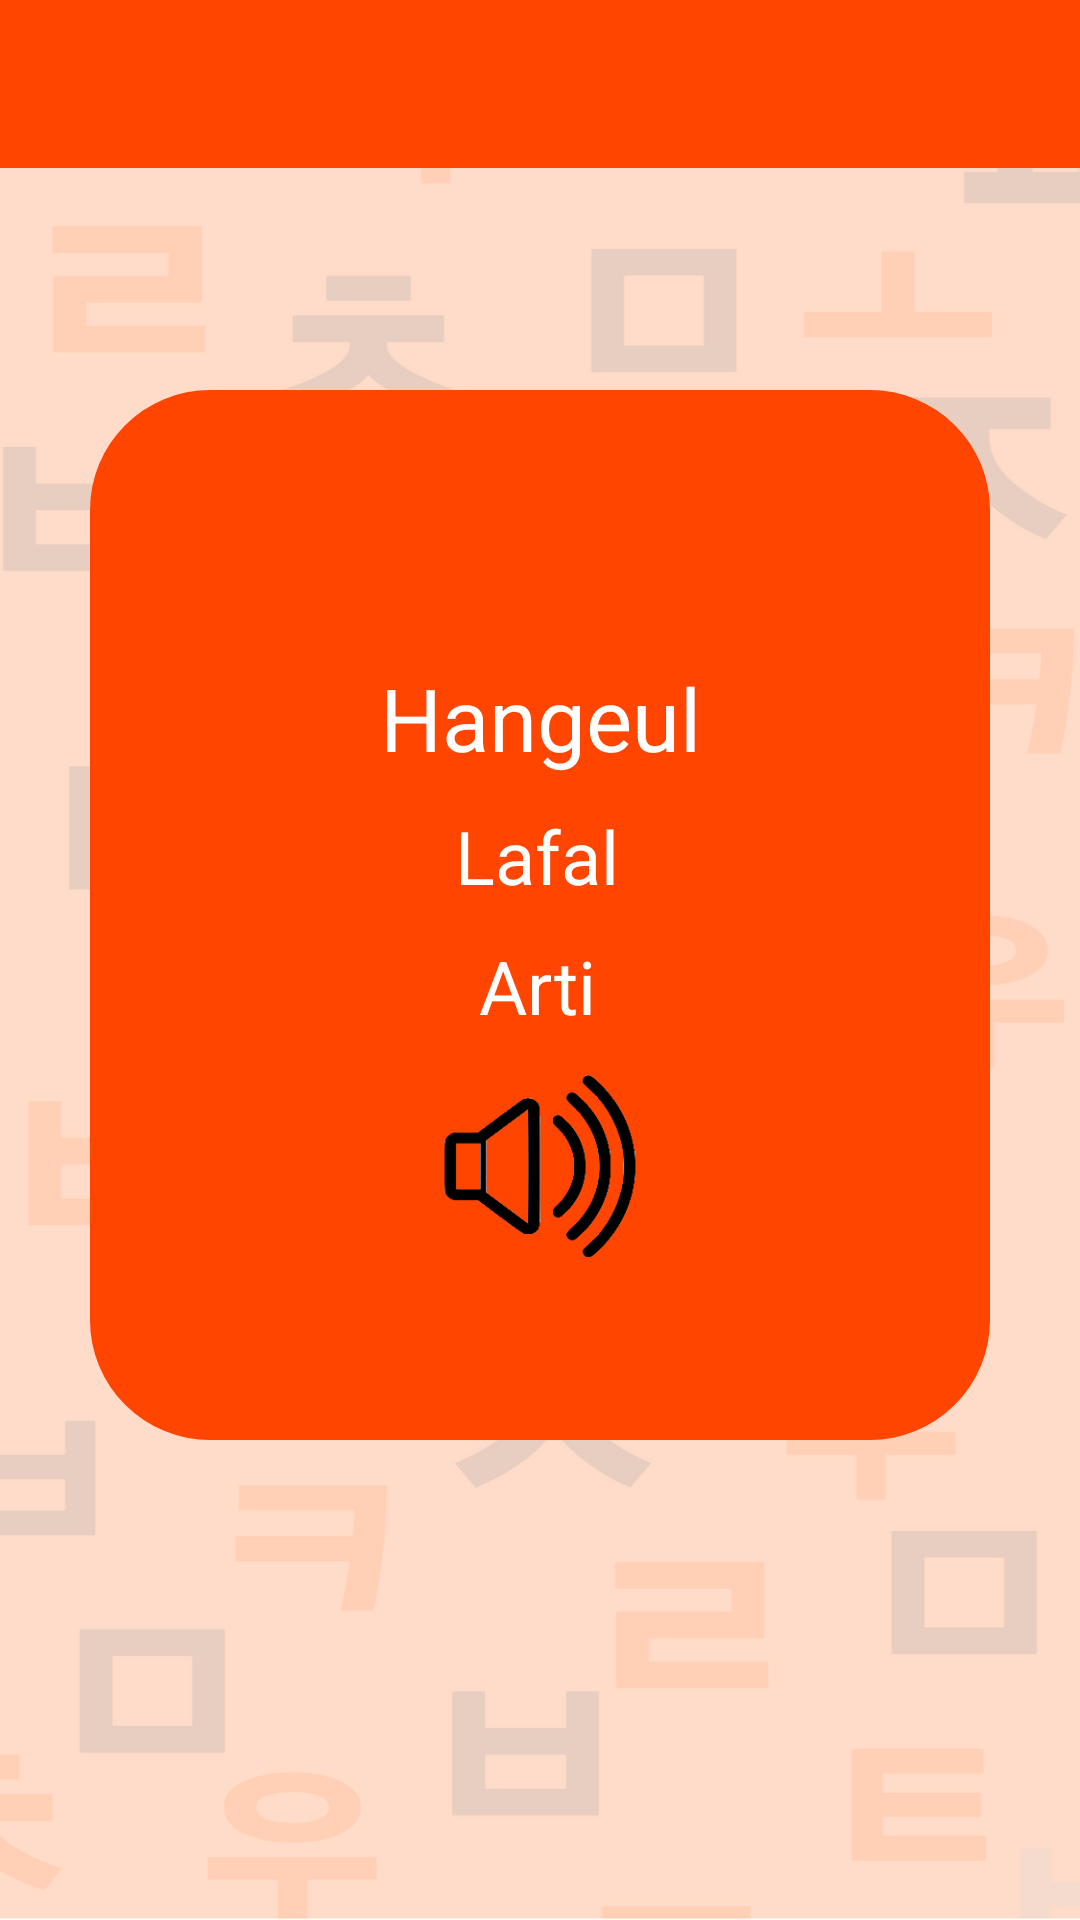

Where icons sit on this 1080w x 1920h app screen, as Rect(x1, y1, x2, y2):
sound: Rect(444, 1075, 636, 1257)
